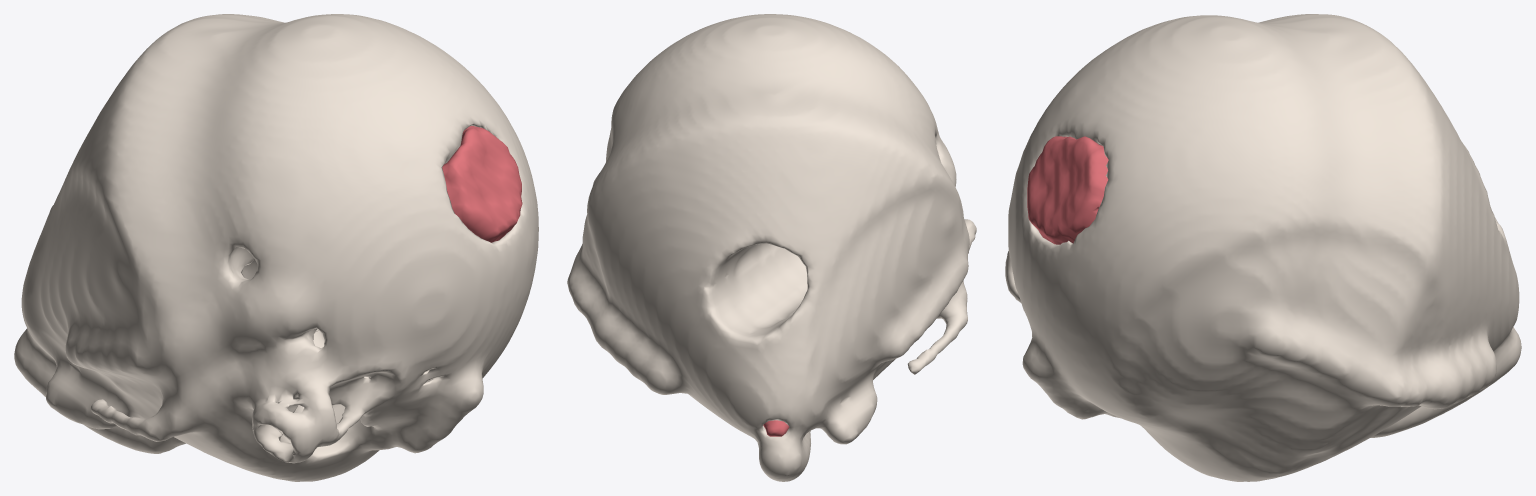
The model's file is case_10.glb.
3 views of the same model, side by side, from view 1: azimuth 30°, elevation 25°; view 2: azimuth 150°, elevation 25°; view 3: azimuth 270°, elevation 25° (orthographic). The views are drawn at different scales.
Parts seen in each view (by area): view 1: heart, pool; view 2: heart; view 3: heart, pool.
Part boxes in pixels (bbox=[...]): heart: bbox=[14, 14, 538, 481]; pool: bbox=[442, 126, 522, 242]; heart: bbox=[567, 14, 976, 481]; heart: bbox=[1005, 14, 1521, 481]; pool: bbox=[1027, 136, 1108, 244].
Size of the model in its own units: 126 by 133 by 138.
